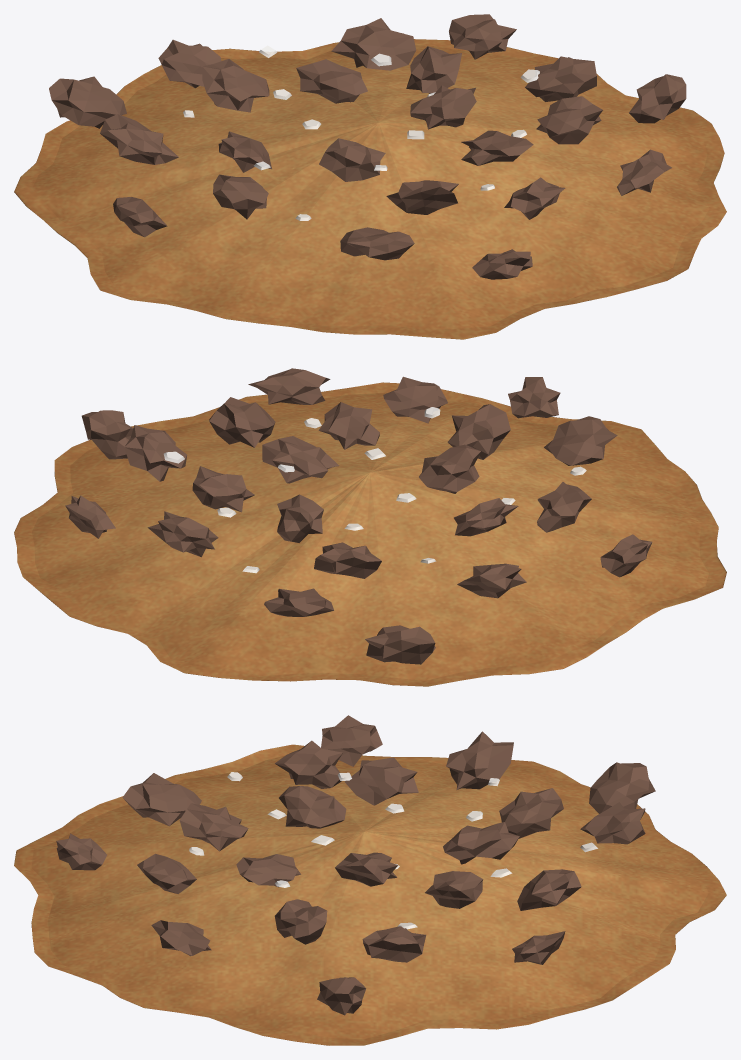
Rendered from warm-batch-cookie.glb.
3 renders of one model, top to bottom at view 1: azimuth 30°, elevation 25°; view 2: azimuth 150°, elevation 25°; view 3: azimuth 270°, elevation 25°, orthographic. The views are drawn at different scales.
Parts seen in each view (by area): view 1: CookieDough, ChocChunks, SaltFlakes; view 2: CookieDough, ChocChunks, SaltFlakes; view 3: CookieDough, ChocChunks, SaltFlakes.
Part boxes in pixels (<box>): CookieDough: <box>14,39,726,339</box>; ChocChunks: <box>49,14,686,279</box>; SaltFlakes: <box>183,45,539,220</box>; CookieDough: <box>14,382,726,686</box>; ChocChunks: <box>65,368,652,664</box>; SaltFlakes: <box>163,407,586,573</box>; CookieDough: <box>14,744,726,1045</box>; ChocChunks: <box>56,715,655,1015</box>; SaltFlakes: <box>189,772,597,929</box>.
Bounding box in the file's own units: 0.84 × 0.1805 × 0.84.
3 materials, 1 textured.
